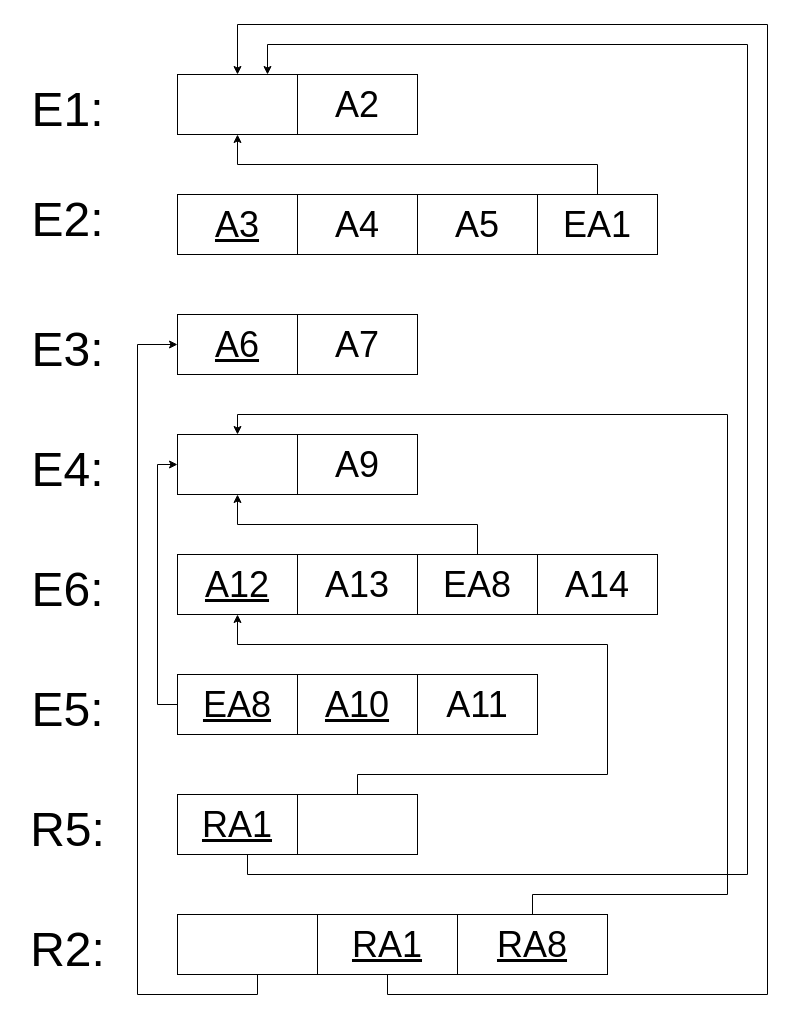
This 793x1020 diagram has some shape labels left out. Here are the shapes that lost their labels. From the top down, the centre of each, then its label:
the point at 237,104: A1
the point at 237,464: A8
the point at 357,824: RA12
the point at 247,944: RA6
